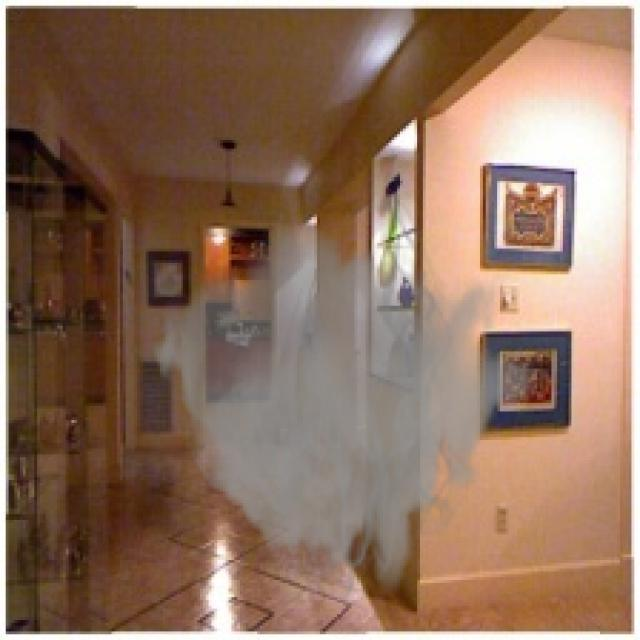smoke: (152, 183, 537, 608)
